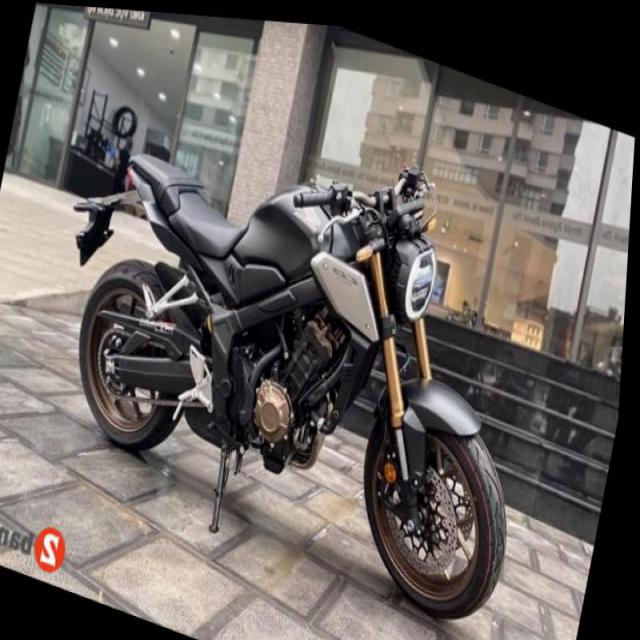CB650R: (49, 80, 573, 627)
